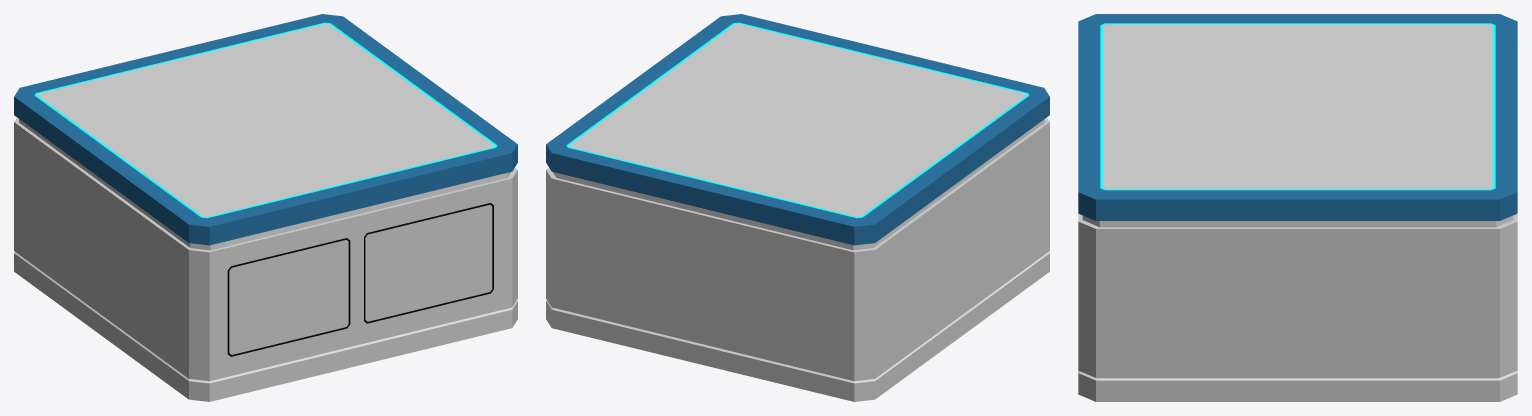
The model's file is workstation.fbx.
3 renders of one model, left to right at view 1: azimuth 30°, elevation 25°; view 2: azimuth 150°, elevation 25°; view 3: azimuth 270°, elevation 25°, orthographic. The views are drawn at different scales.
Visible parts, largest first — view 1: Cube; view 2: Cube; view 3: Cube.
Boxes of the visible parts, x1,y1,x2,y2 form: Cube: [14, 14, 517, 401]; Cube: [546, 14, 1049, 401]; Cube: [1078, 14, 1517, 401].
Bounding box in the file's own units: 200 × 102 × 200.
